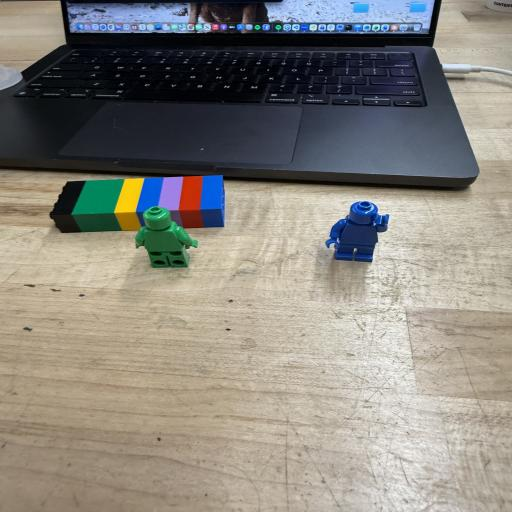blue-minifig: (360, 241, 360, 241)
green-minifig: (136, 206, 197, 267)
